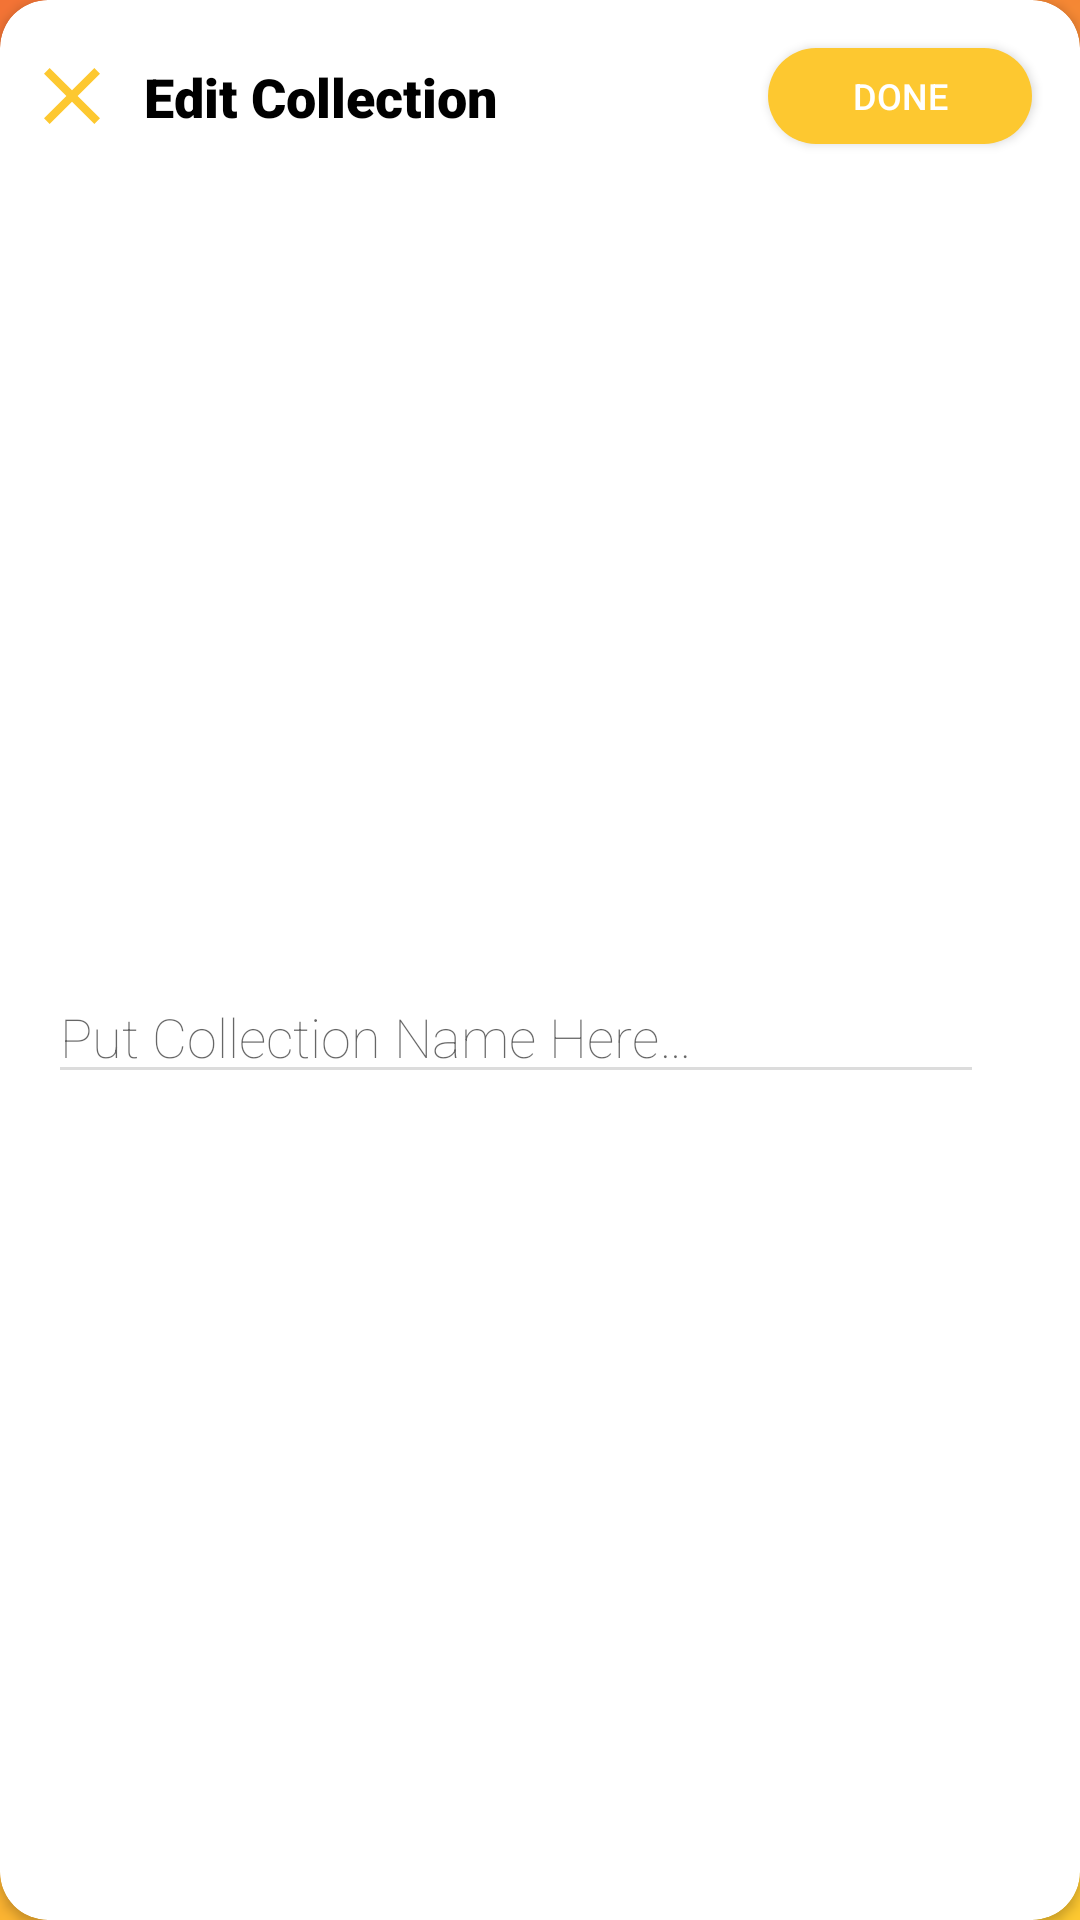

Icon click points for this 1080px x 1920px phone screenshot, format (x=x, y=y):
cancel: (x=72, y=96)
